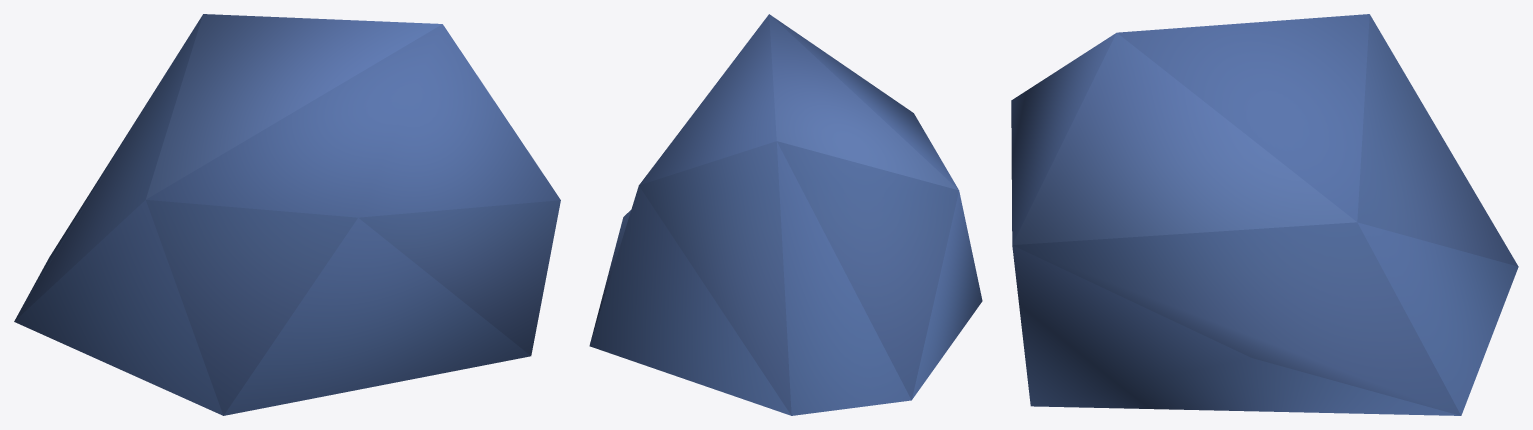
File: stone.fbx
The picture shows the model from 3 angles, left to right: view 1: azimuth 30°, elevation 25°; view 2: azimuth 150°, elevation 25°; view 3: azimuth 270°, elevation 25°; orthographic projection. The views are drawn at different scales.
Parts seen in each view (by area): view 1: stone; view 2: stone; view 3: stone.
Boxes of the visible parts, bbox=[...] form: stone: bbox=[14, 14, 560, 415]; stone: bbox=[589, 14, 982, 415]; stone: bbox=[1011, 14, 1518, 415].
Bounding box in the file's own units: 179 × 128 × 169.
